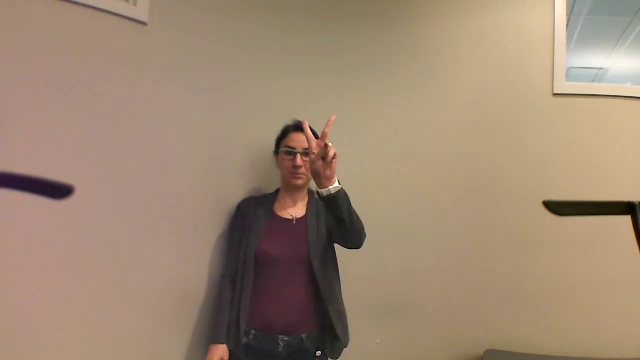peace: (296, 110, 346, 181)
